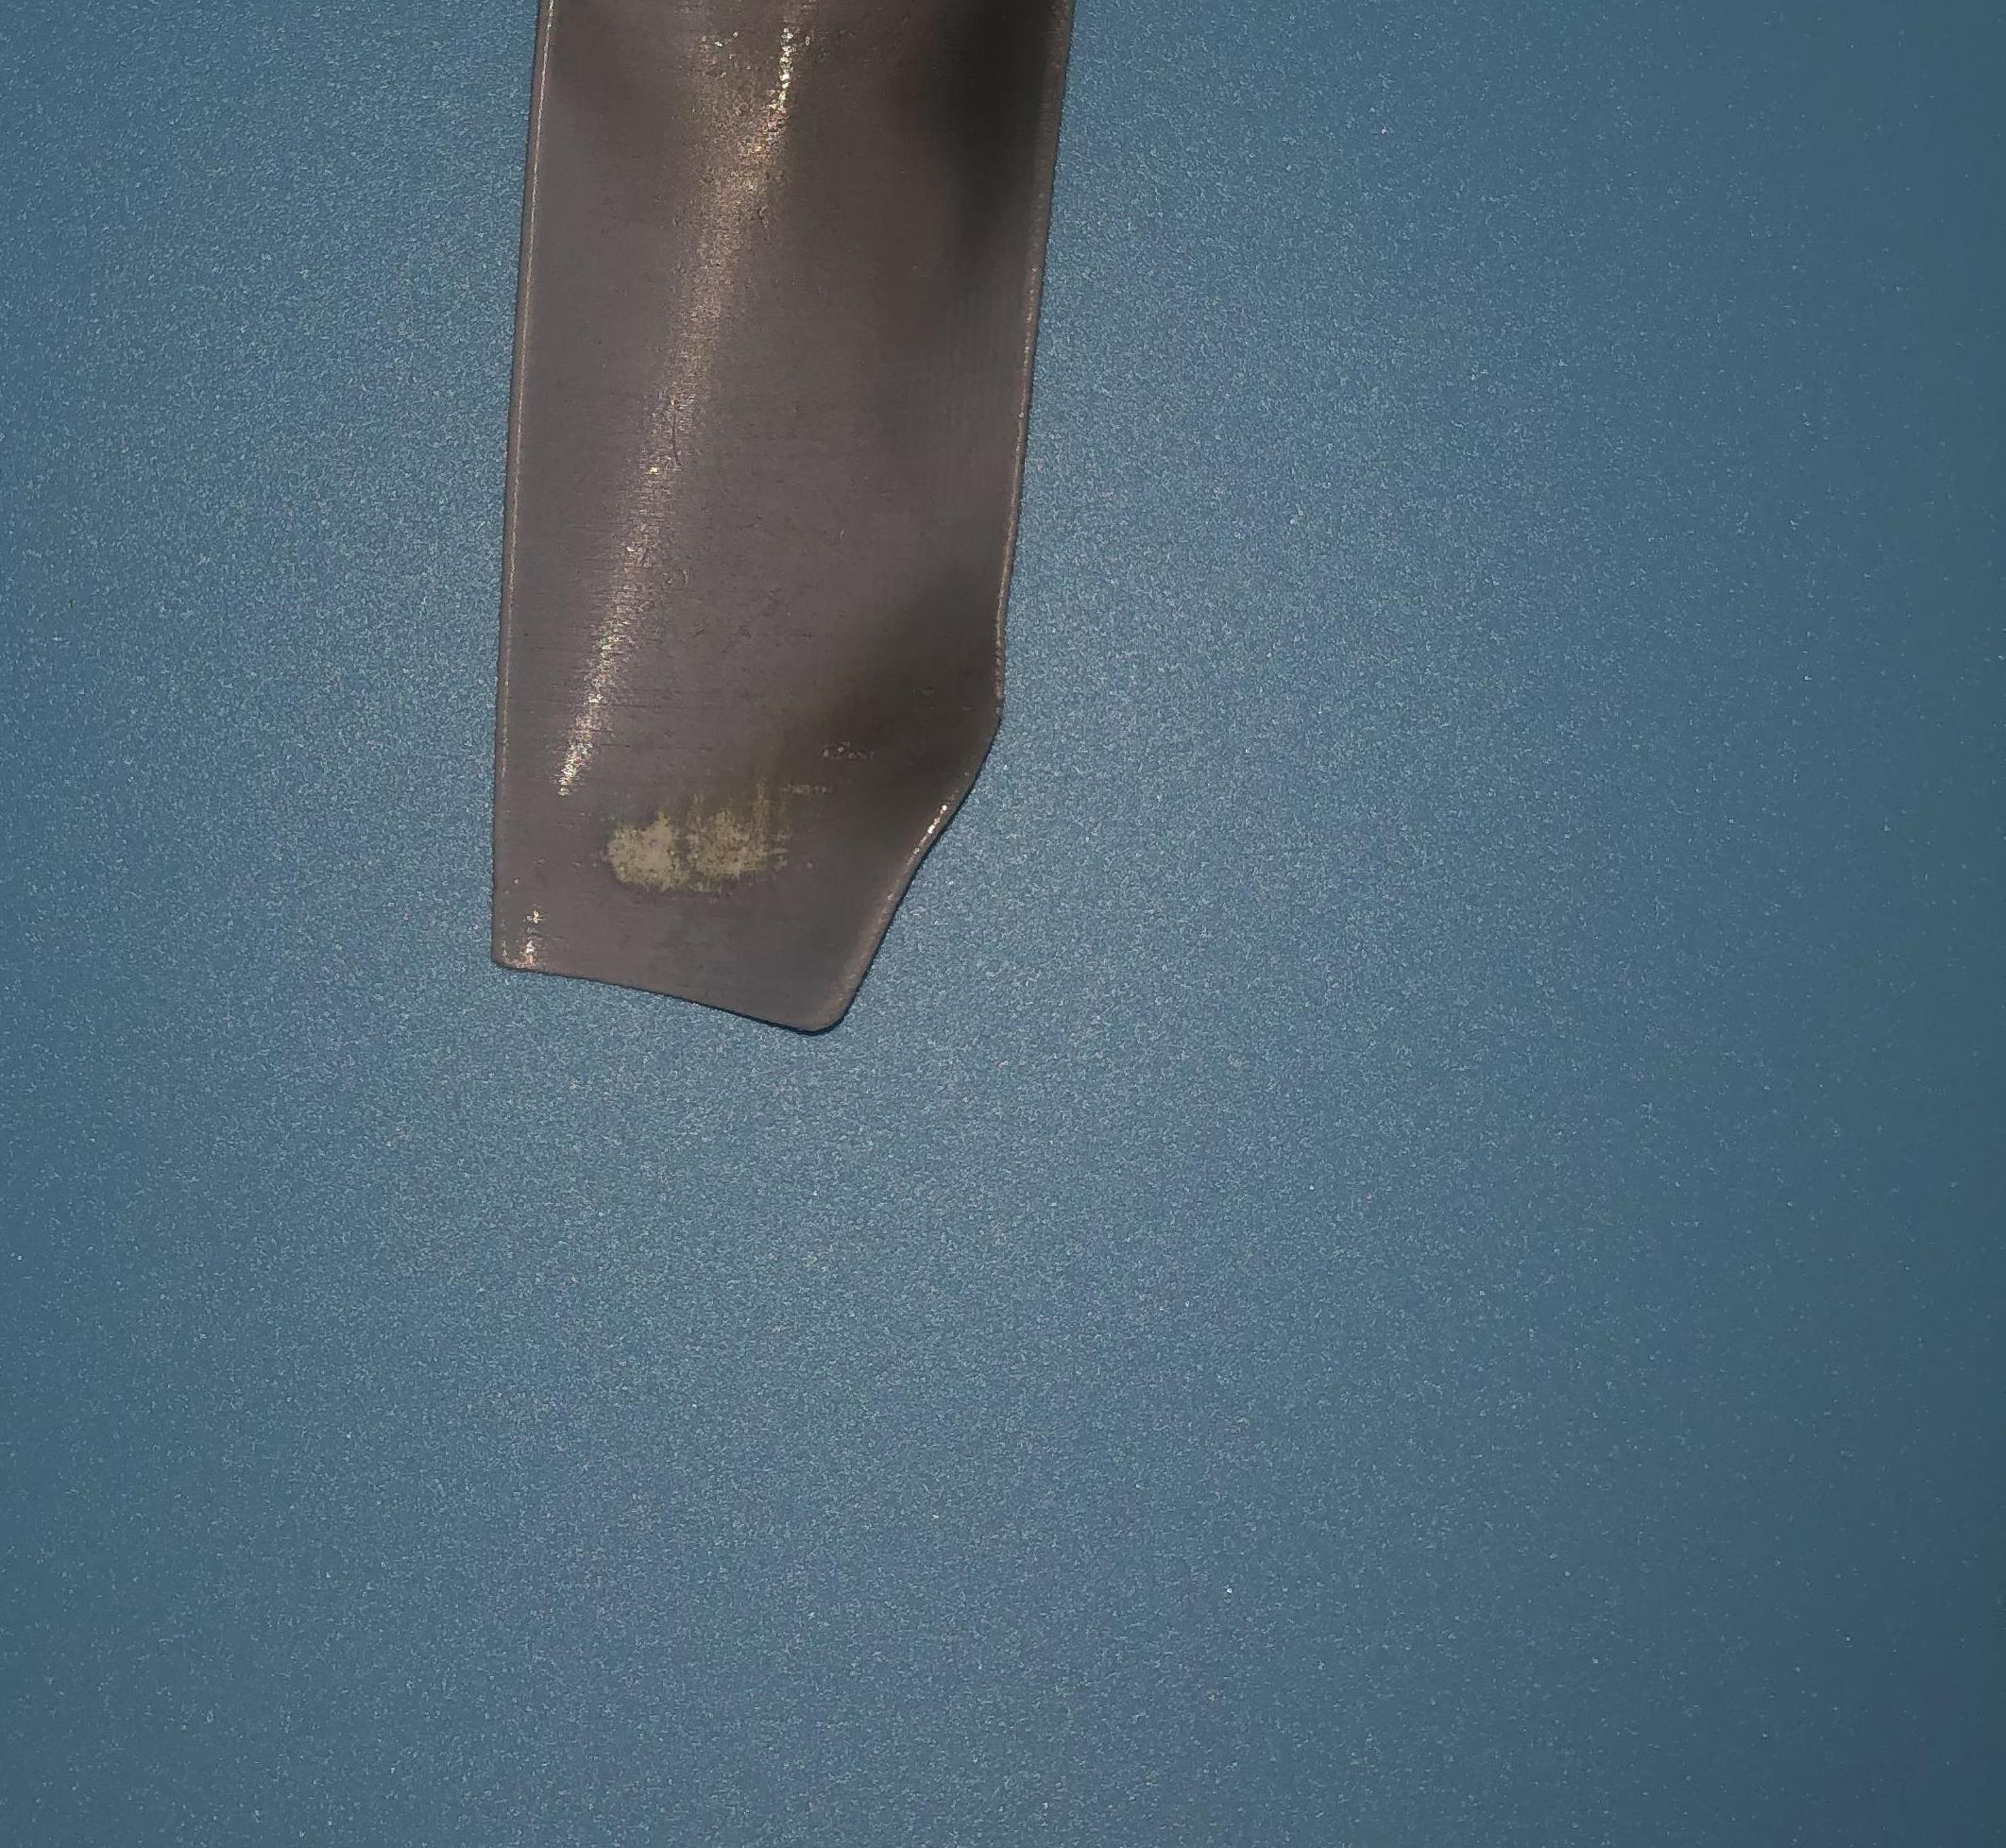ablation: (748, 28, 1029, 259), (748, 643, 989, 830)
